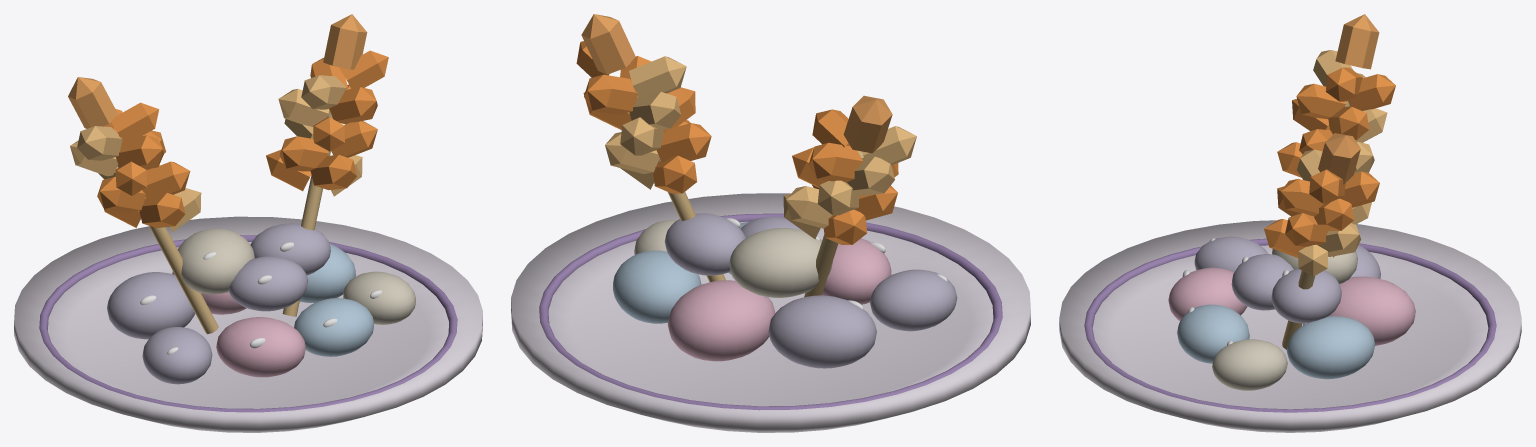
File: rockcandy.glb
3 renders of one model, left to right at view 1: azimuth 30°, elevation 25°; view 2: azimuth 150°, elevation 25°; view 3: azimuth 270°, elevation 25°, orthographic. The views are drawn at different scales.
Visible parts, largest first — view 1: _plate_plate, _copper-sticks_candy_stick, _pebbles-front_stone_candy, _pebbles-back_stone_candy; view 2: _plate_plate, _copper-sticks_candy_stick, _pebbles-back_stone_candy, _pebbles-front_stone_candy; view 3: _plate_plate, _copper-sticks_candy_stick, _pebbles-front_stone_candy, _pebbles-back_stone_candy.
Boxes of the visible parts, x1,y1,x2,y2 form: _plate_plate: [14, 216, 482, 432]; _copper-sticks_candy_stick: [68, 14, 388, 334]; _pebbles-front_stone_candy: [142, 256, 415, 384]; _pebbles-back_stone_candy: [107, 223, 355, 339]; _plate_plate: [511, 193, 1030, 432]; _copper-sticks_candy_stick: [576, 14, 916, 297]; _pebbles-back_stone_candy: [613, 213, 876, 368]; _pebbles-front_stone_candy: [634, 216, 957, 331]; _plate_plate: [1059, 220, 1521, 432]; _copper-sticks_candy_stick: [1264, 14, 1395, 349]; _pebbles-front_stone_candy: [1168, 236, 1293, 390]; _pebbles-back_stone_candy: [1271, 245, 1415, 379].
Size of the model in its own units: 1.14 by 0.7674 by 1.14.
